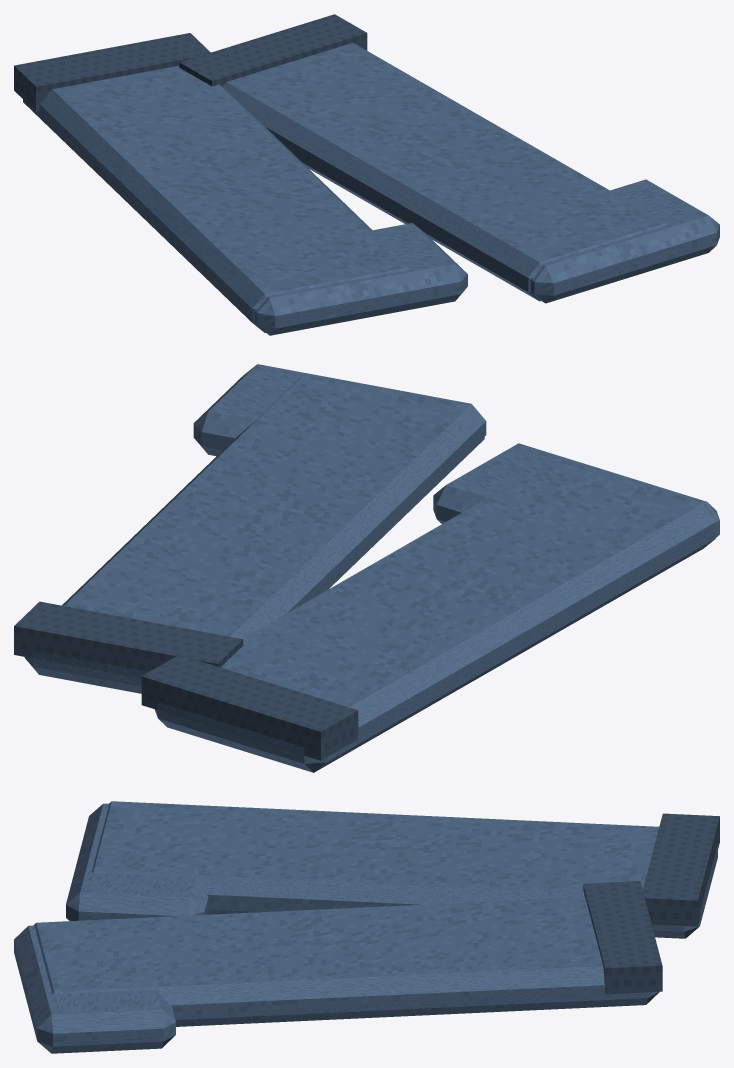
File: stockings.glb
3 renders of one model, top to bottom at view 1: azimuth 30°, elevation 25°; view 2: azimuth 150°, elevation 25°; view 3: azimuth 270°, elevation 25°, orthographic. The views are drawn at different scales.
Parts seen in each view (by area): view 1: block_knitted leg (×2), block_toe (×2), block_binding (×2); view 2: block_knitted leg (×2), block_binding (×2), block_toe (×2); view 3: block_knitted leg (×2), block_toe (×2), block_binding (×2).
Boxes of the visible parts, left/top/right/bottom form: block_knitted leg (×2): left=23, top=43, right=667, bottom=332; block_toe (×2): left=255, top=179, right=719, bottom=335; block_binding (×2): left=14, top=14, right=367, bottom=111; block_knitted leg (×2): left=24, top=375, right=716, bottom=772; block_binding (×2): left=14, top=601, right=358, bottom=760; block_toe (×2): left=193, top=364, right=719, bottom=536; block_knitted leg (×2): left=33, top=801, right=717, bottom=1026; block_toe (×2): left=14, top=803, right=208, bottom=1053; block_binding (×2): left=583, top=813, right=719, bottom=994.
Bounding box in the file's own units: 0.2577 × 0.025 × 0.3438.
1 material, 1 textured.
